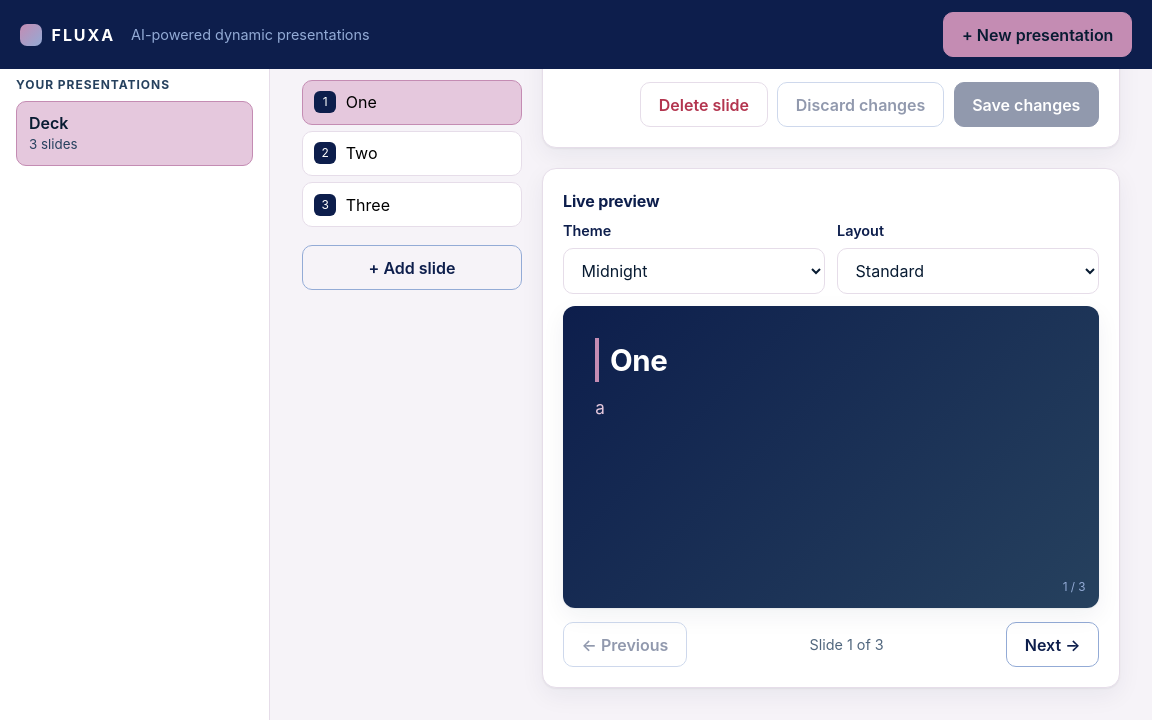
Test: Next is disabled on the last slide
(page scrolled)
What coordinates should you click on to do the following:
click the button "Next →"
I would click on:
 (1053, 644)
Its box is x1=1006 y1=622 x2=1099 y2=667.
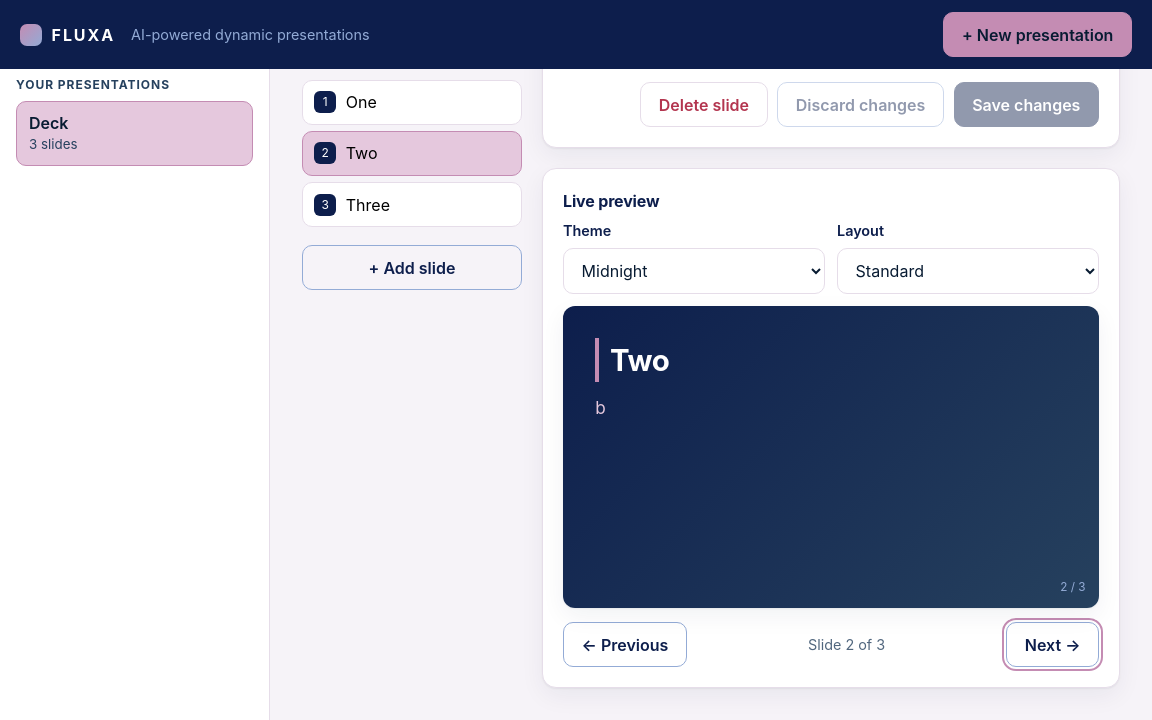
What coordinates should you click on to do the following:
click the button "Next →"
I would click on:
 (1053, 644)
Its box is x1=1006 y1=622 x2=1099 y2=667.
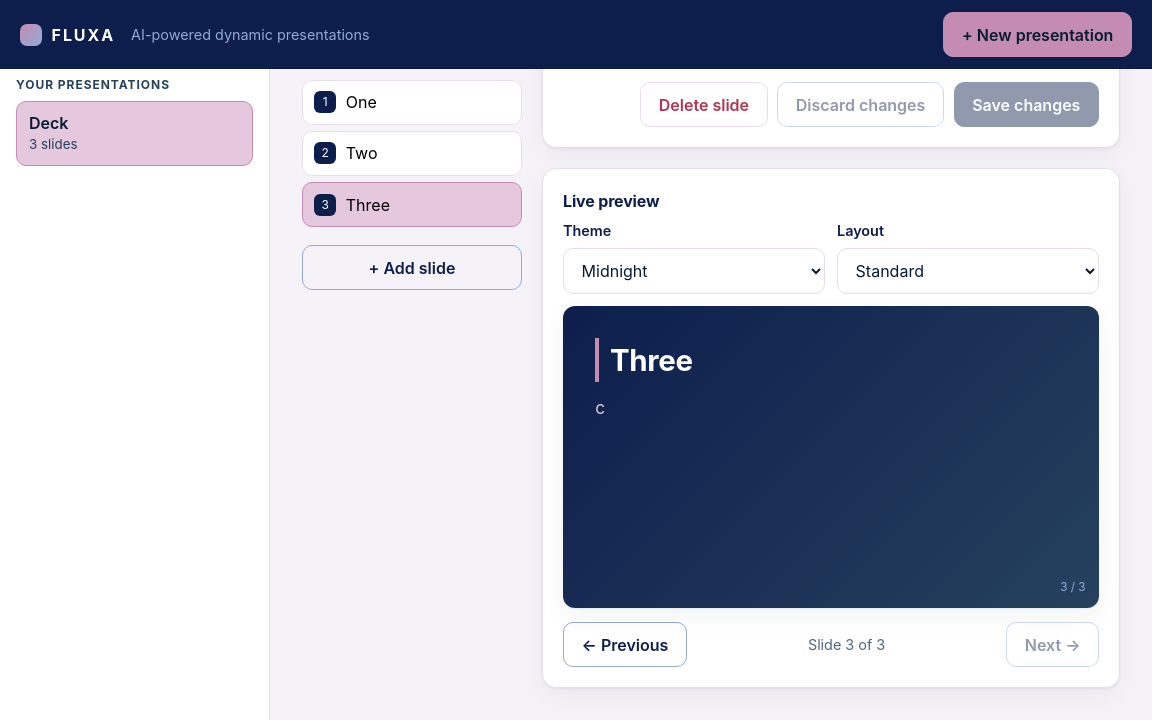
Result: the button "Next →" is disabled at x1=1006 y1=622 x2=1099 y2=667
